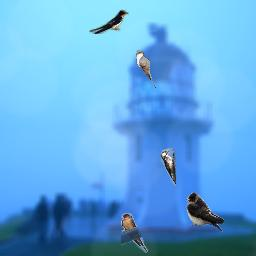Cuckoo: (136, 50, 156, 90)
Swallow: (186, 192, 224, 232), (121, 213, 148, 253), (89, 9, 129, 34)
Woodpecker: (161, 148, 176, 186)
